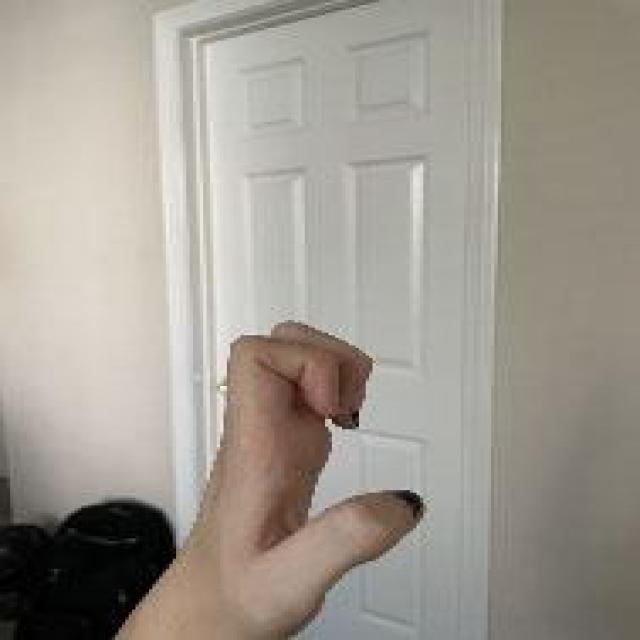E: (185, 316, 432, 634)
